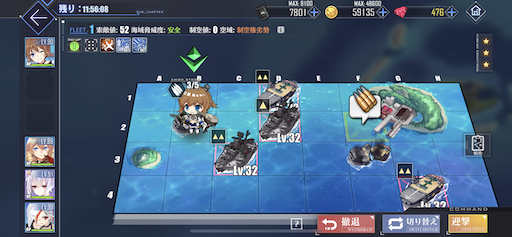lv1: (256, 99, 300, 145)
lv2: (396, 160, 449, 211), (252, 67, 310, 110), (210, 131, 260, 180)
